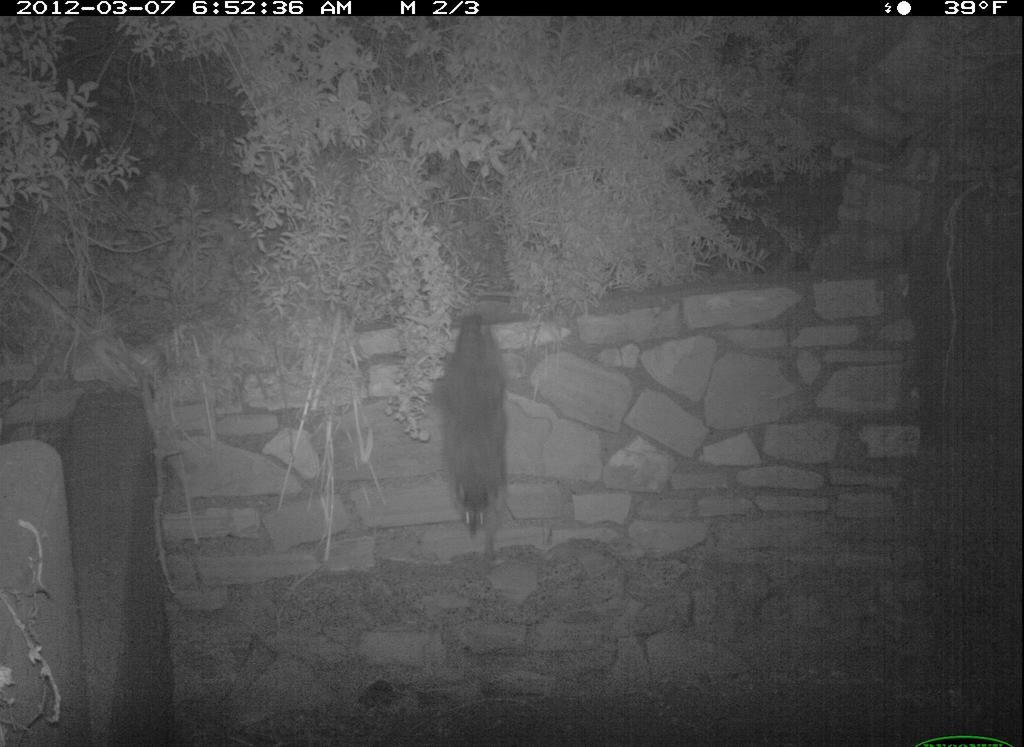raccoon: (432, 308, 536, 556)
